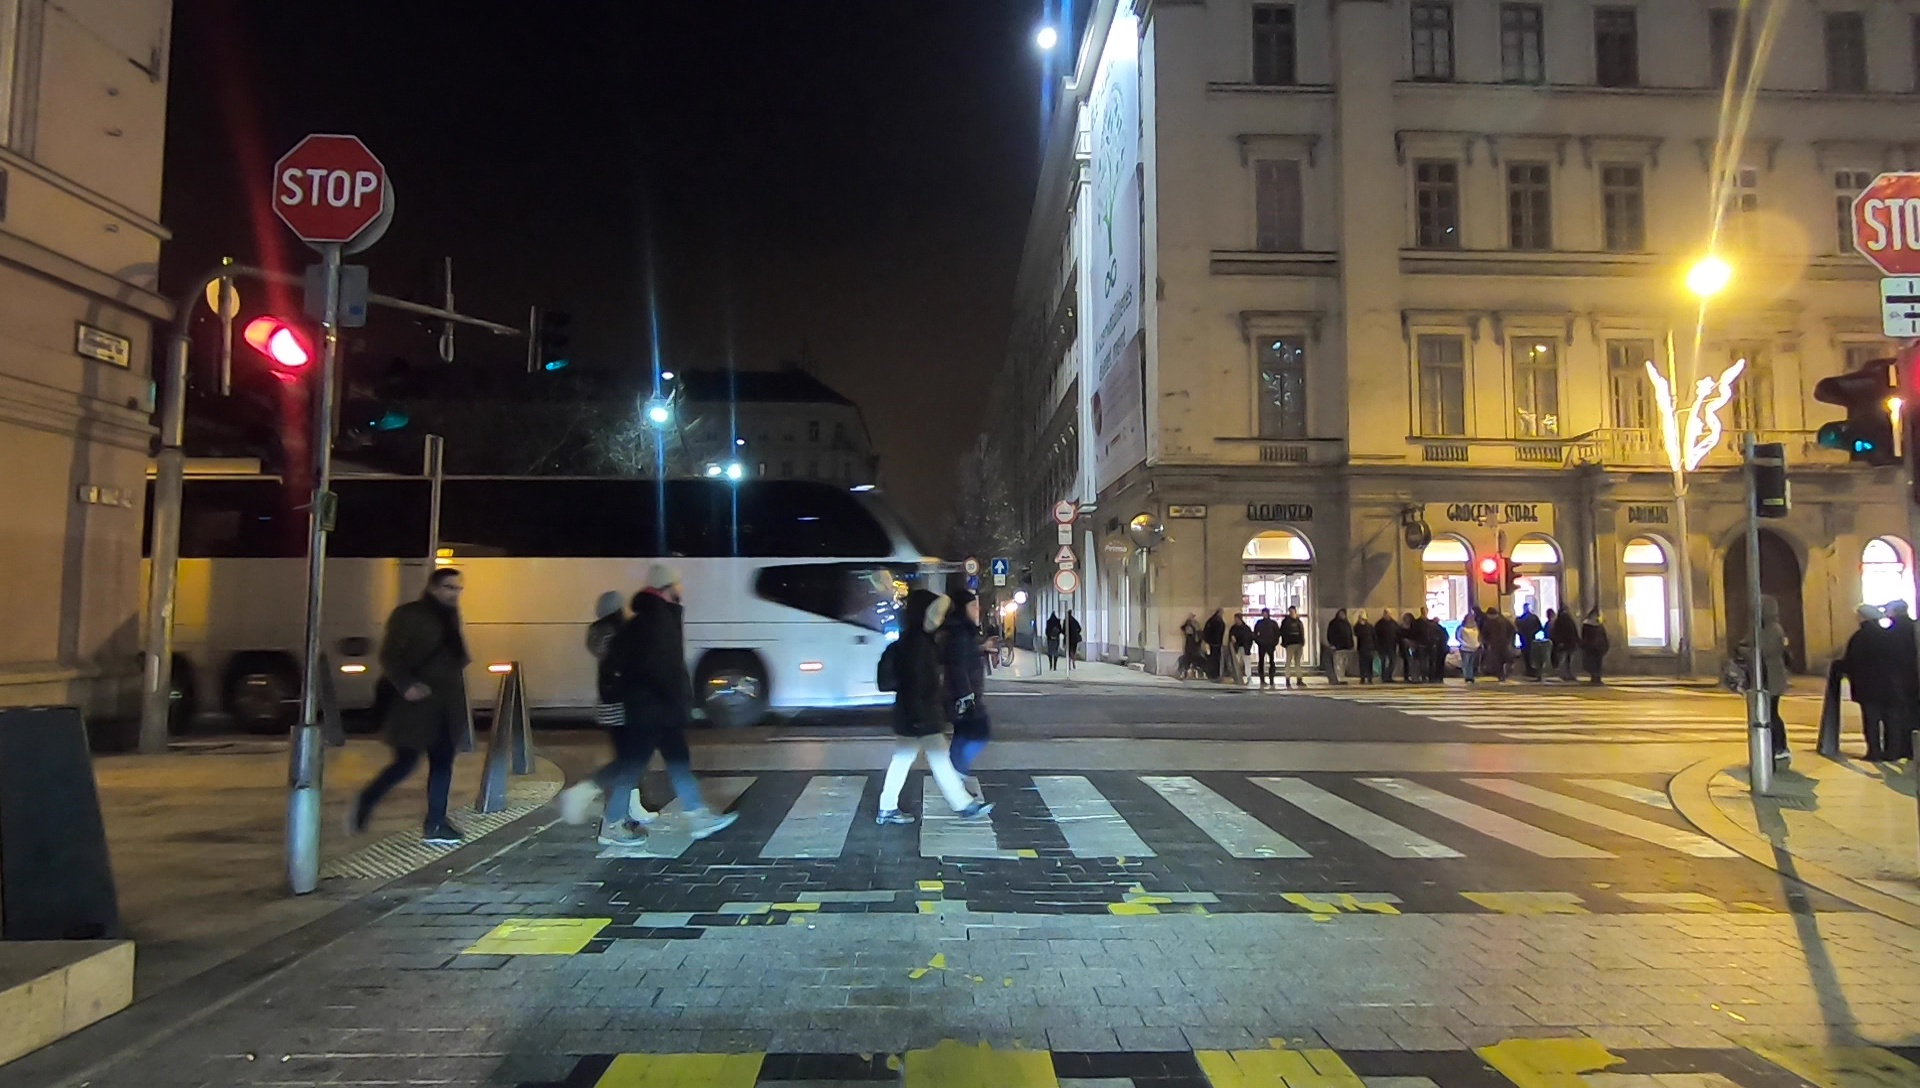person: (614, 574, 734, 847), (367, 574, 471, 849), (878, 587, 980, 828), (576, 600, 651, 828), (1736, 591, 1797, 767), (949, 595, 999, 778), (1849, 604, 1888, 756), (1886, 597, 1919, 756), (1225, 615, 1256, 695), (1482, 608, 1510, 682), (1326, 606, 1351, 678), (1582, 610, 1608, 682), (1375, 610, 1401, 678), (1551, 610, 1573, 686), (1064, 610, 1086, 676), (1458, 615, 1478, 684), (1354, 610, 1373, 682), (1523, 600, 1541, 671), (1201, 606, 1219, 680), (1262, 617, 1280, 686), (1286, 610, 1302, 682), (1402, 611, 1417, 682), (1043, 613, 1060, 673)
